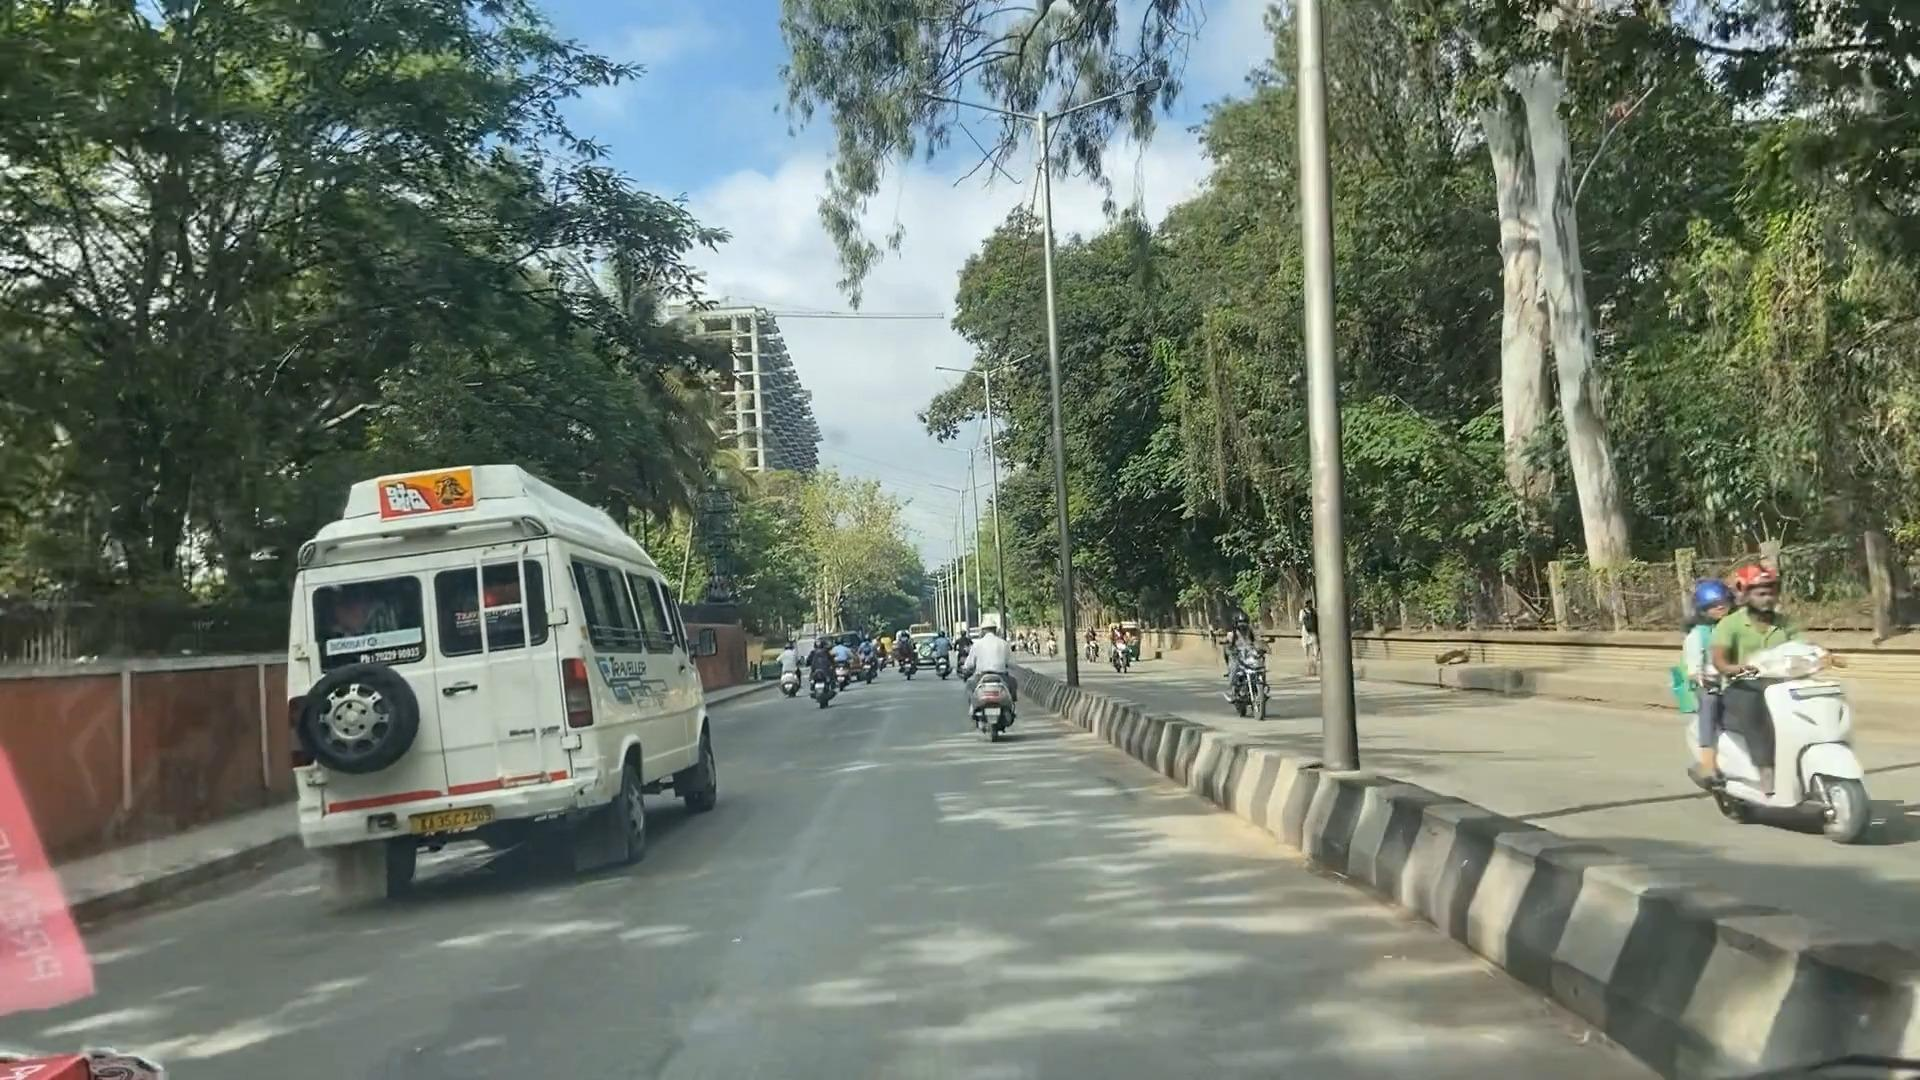HMV: (282, 487, 615, 895)
LMV: (964, 608, 1021, 748)
